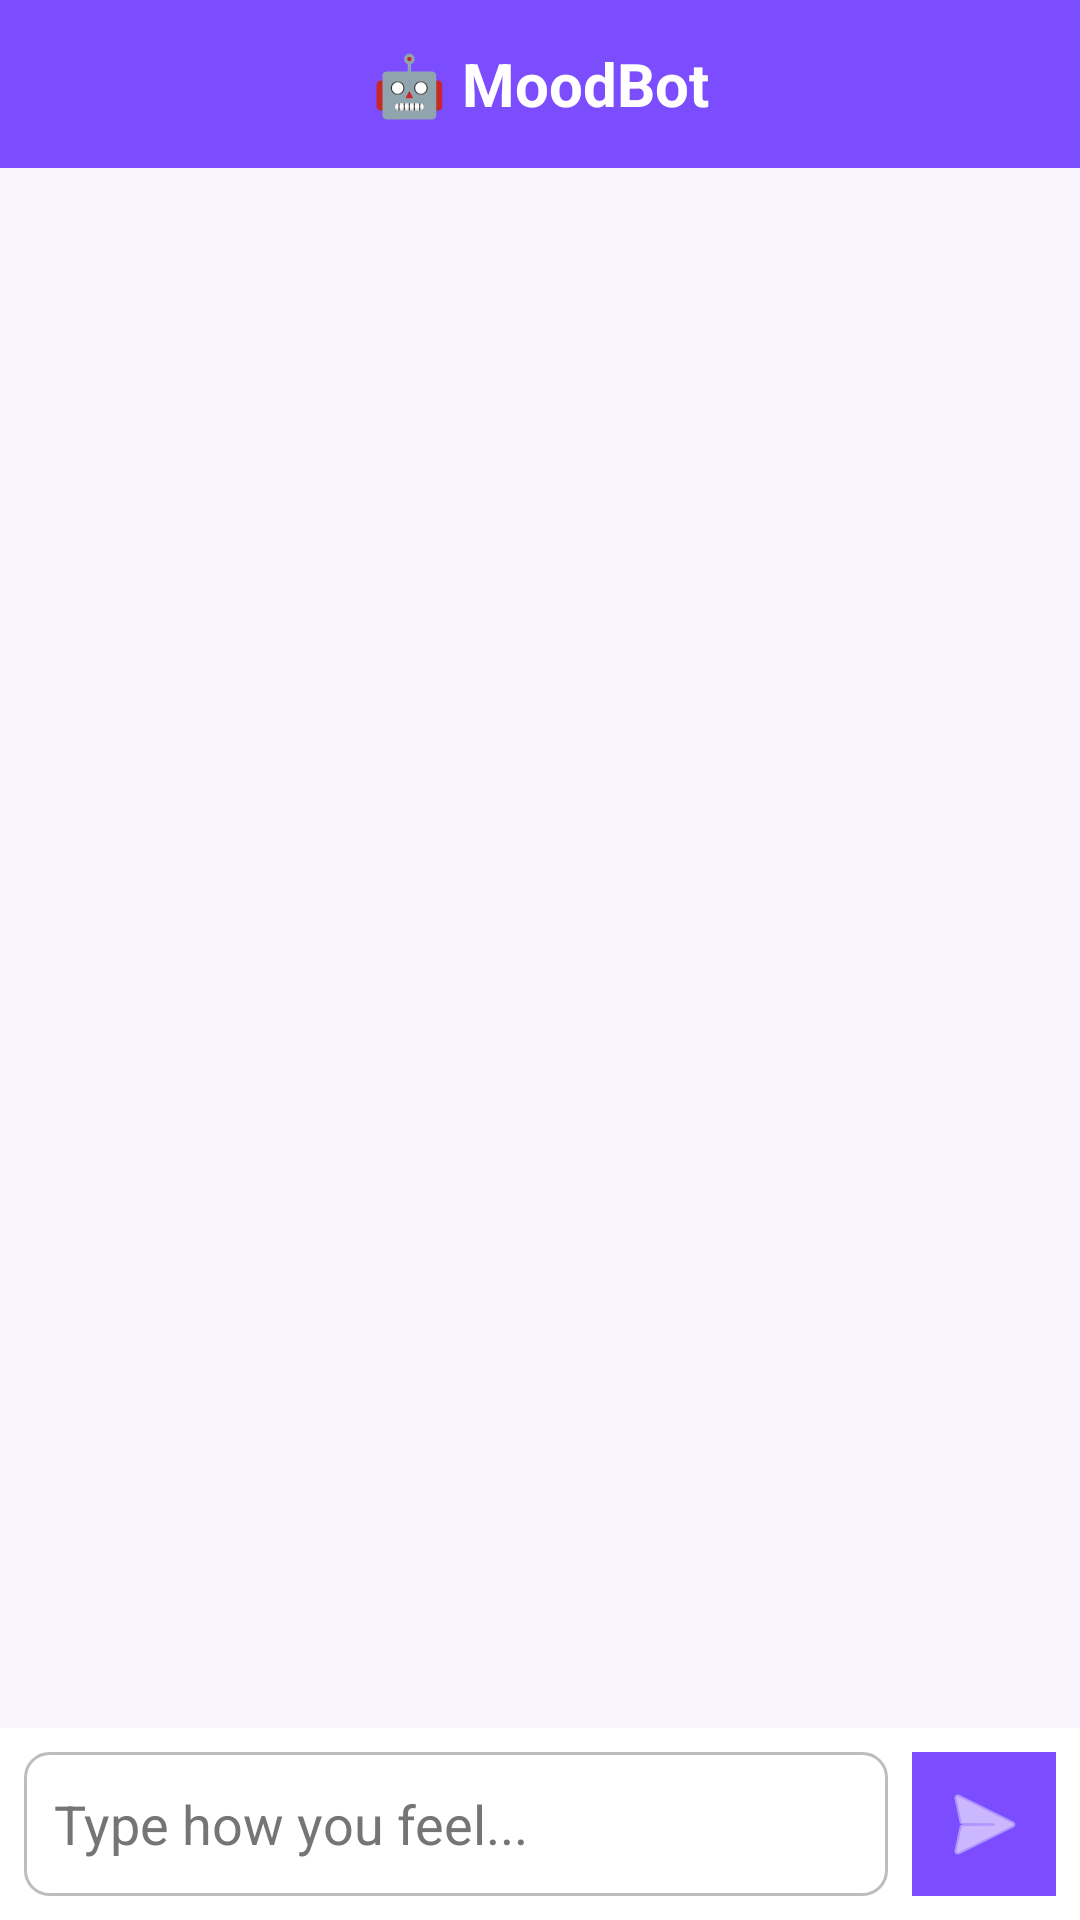

Named icons in this screenshot (1080 x 1920) and their centers, [x,y]:
send: [984,1824]
